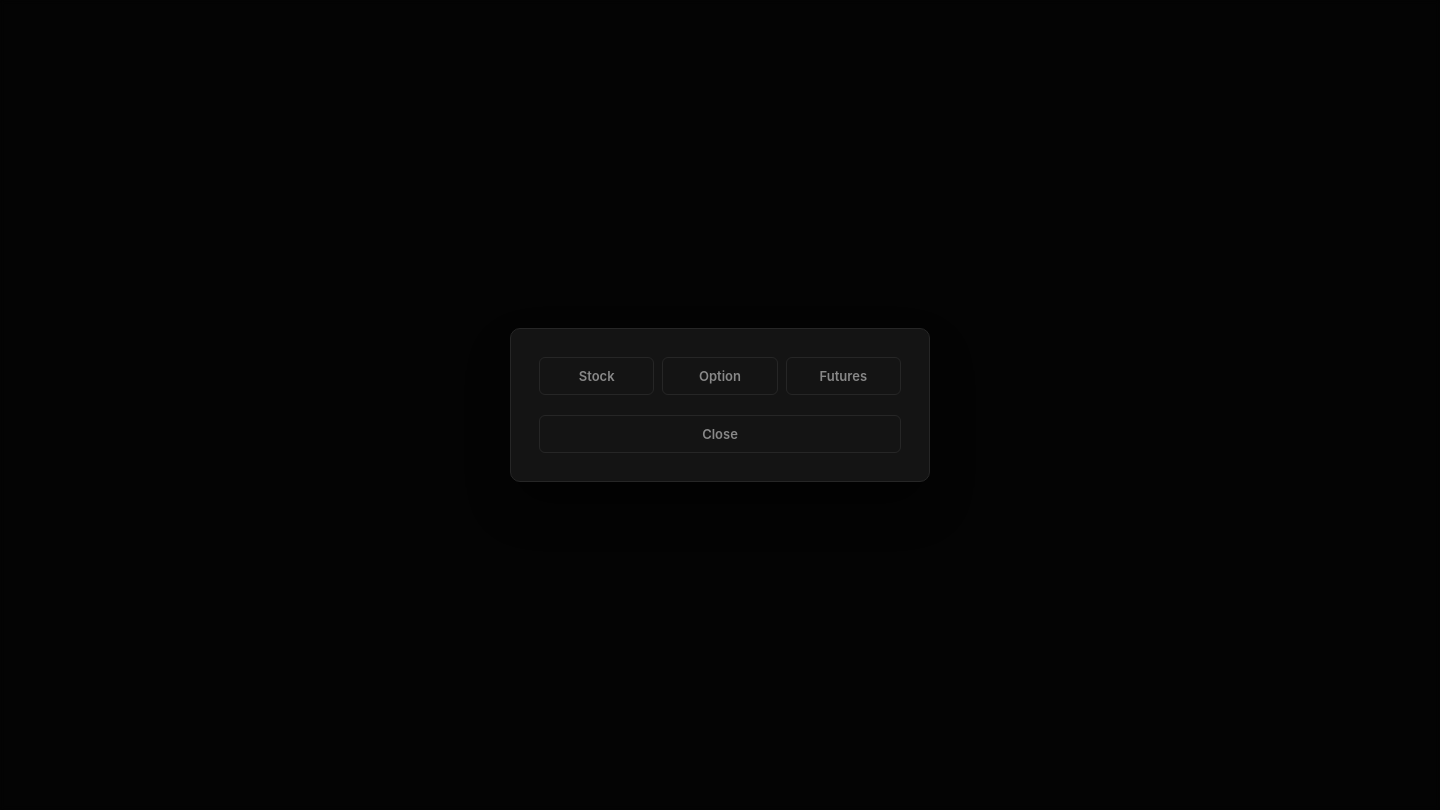
it: AddTradeModal › shows a single Date field, not separate Entry/Exit dates
Click the button "Stock": click(597, 376) top-left (539, 357), bottom-right (654, 395)
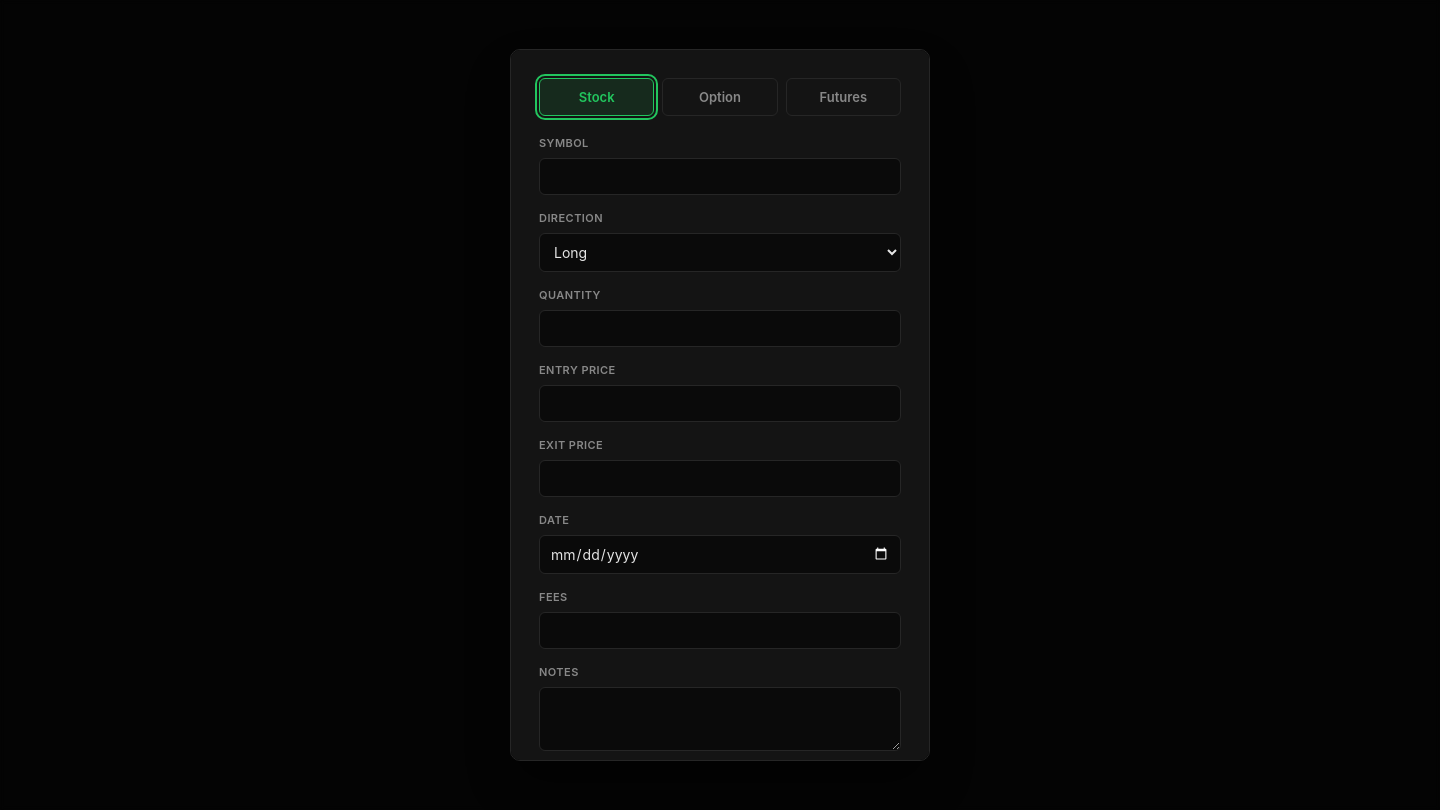
Check: the date field labelled "Date" is shown, box top-left (539, 535), bottom-right (901, 574)
